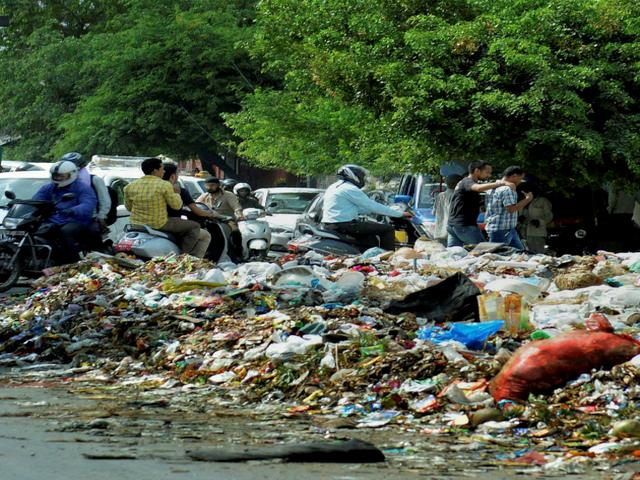garbage: (56, 256, 640, 419)
